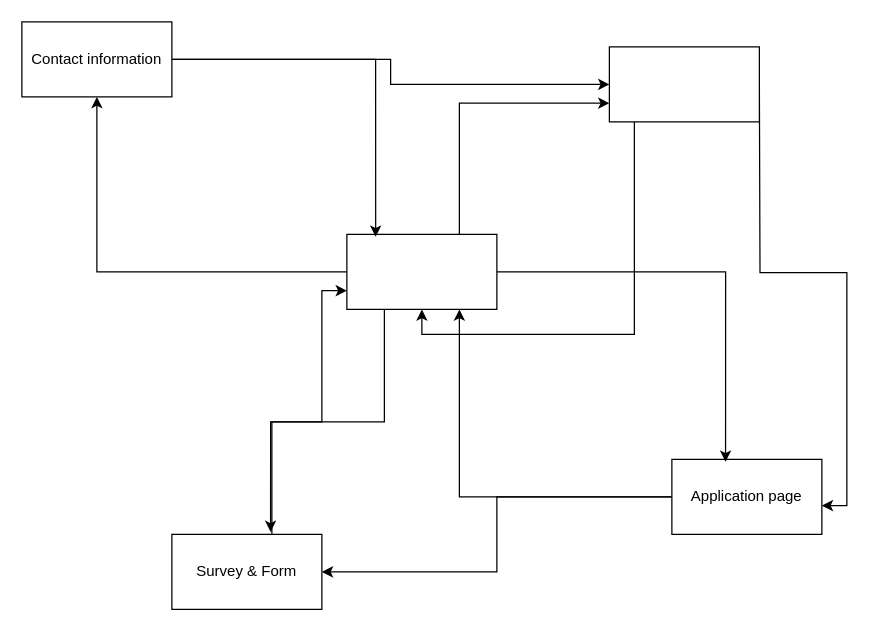
Some shapes in this 879 by 631 pixel diagram are drawn without their labels. Here are the shapes that lost their labels. From the top down, the centre of each, then its label:
(x=683, y=84): Information page
(x=421, y=271): Home Page
